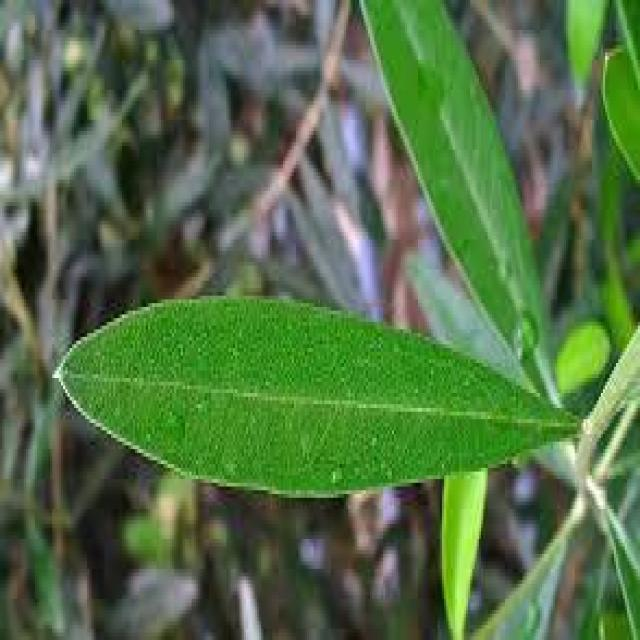Healthy: (54, 299, 592, 494)
